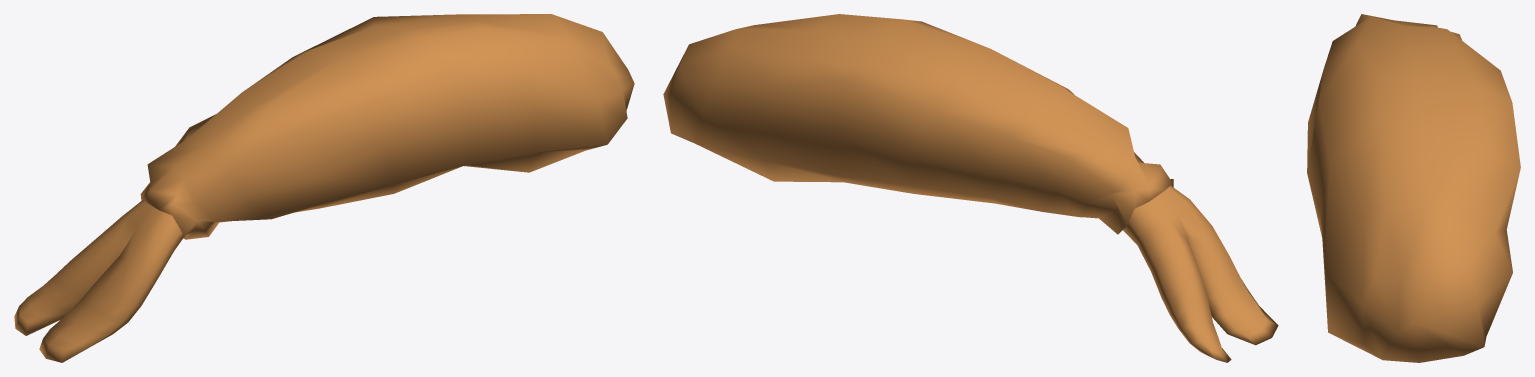
File: Ingredient_Tempura.fbx
3 renders of one model, left to right at view 1: azimuth 30°, elevation 25°; view 2: azimuth 150°, elevation 25°; view 3: azimuth 270°, elevation 25°, orthographic. The views are drawn at different scales.
Parts seen in each view (by area): view 1: m_Tempura_05; view 2: m_Tempura_05; view 3: m_Tempura_05.
Part boxes in pixels (x1,y1,x2,y2): m_Tempura_05: (14,14,634,362); m_Tempura_05: (663,14,1278,362); m_Tempura_05: (1307,14,1520,362).
Bounding box in the file's own units: 57.74 × 21.57 × 14.69.
